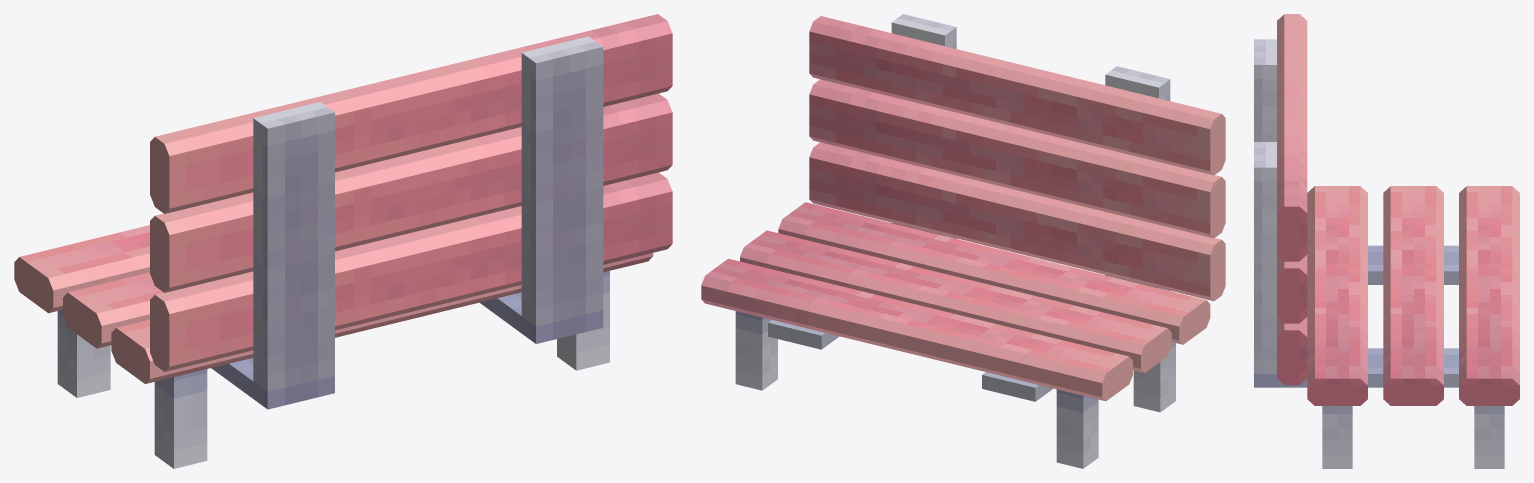
The model's file is Bench.gltf.
3 renders of one model, left to right at view 1: azimuth 30°, elevation 25°; view 2: azimuth 150°, elevation 25°; view 3: azimuth 270°, elevation 25°, orthographic. The views are drawn at different scales.
Parts seen in each view (by area): view 1: Bench; view 2: Bench; view 3: Bench.
Part boxes in pixels (x1,y1,x2,y2): Bench: (14,14,672,468); Bench: (701,14,1225,468); Bench: (1254,14,1519,468).
Bounding box in the file's own units: 0.9375 × 0.6406 × 0.5469.
Materials: 3 (3 with a texture image).
